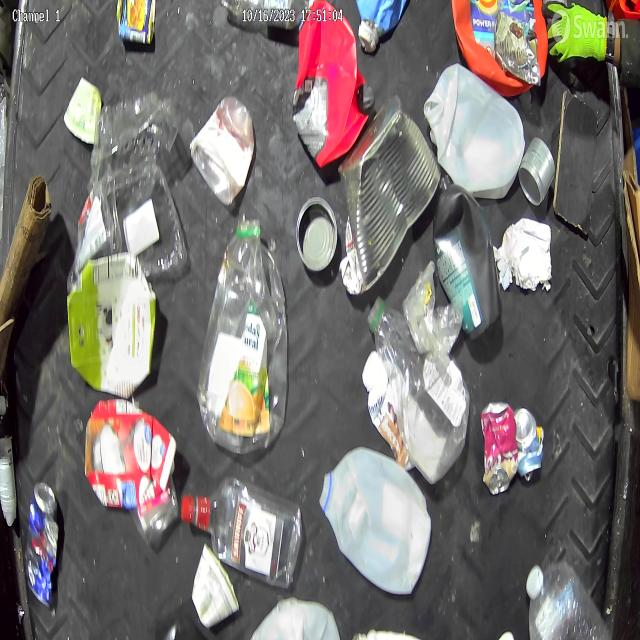can: (338, 94, 442, 292), (189, 95, 256, 206), (24, 480, 60, 610), (479, 399, 518, 496), (295, 194, 339, 274), (518, 136, 556, 207), (513, 406, 545, 484), (115, 0, 158, 47)
milk_jug: (318, 445, 434, 599), (423, 62, 526, 202)
non_white_jug: (292, 0, 376, 168), (67, 252, 157, 399), (432, 175, 505, 344), (84, 398, 177, 510), (451, 0, 549, 97)
plastic_bottle: (195, 216, 292, 458), (366, 296, 471, 486), (523, 556, 613, 640)
